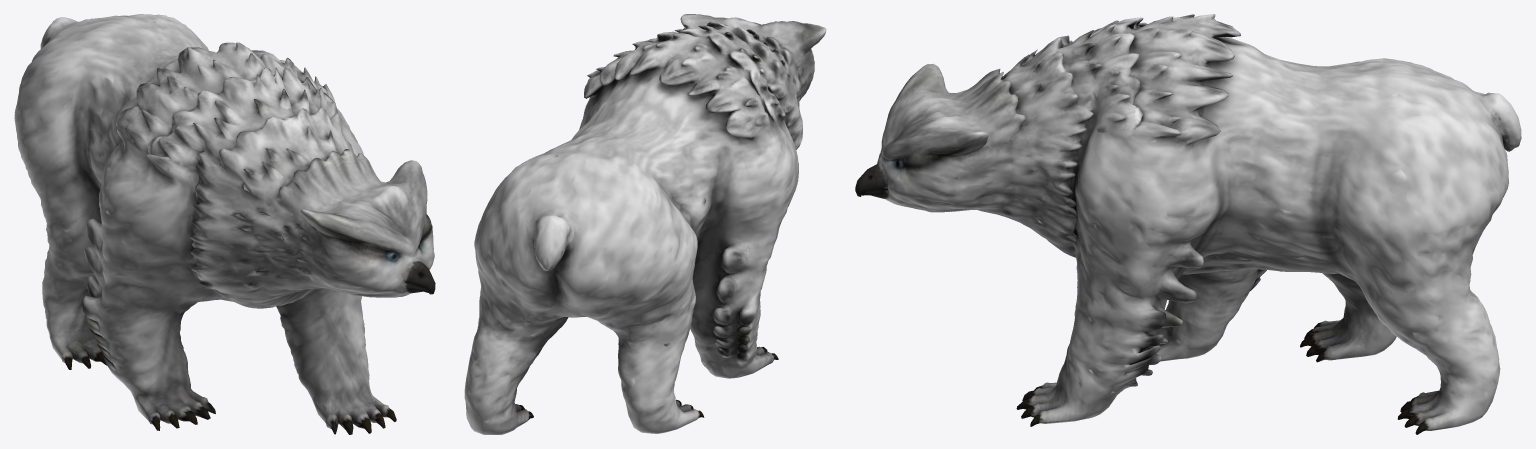
File: MZ4250 - Owlbear_Snowy.glb
3 renders of one model, left to right at view 1: azimuth 30°, elevation 25°; view 2: azimuth 150°, elevation 25°; view 3: azimuth 270°, elevation 25°, orthographic. The views are drawn at different scales.
Visible parts, largest first — view 1: Base Organic Sphere.001; view 2: Base Organic Sphere.001; view 3: Base Organic Sphere.001.
Boxes of the visible parts, x1,y1,x2,y2 form: Base Organic Sphere.001: [14, 14, 435, 434]; Base Organic Sphere.001: [464, 14, 826, 434]; Base Organic Sphere.001: [855, 14, 1521, 434].
Size of the model in its own units: 0.7486 by 1.03 by 1.73.
1 material, 1 textured.
